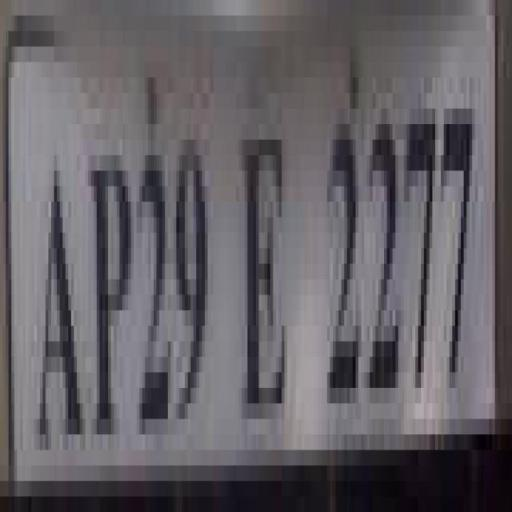number plate: (17, 0, 512, 466)
